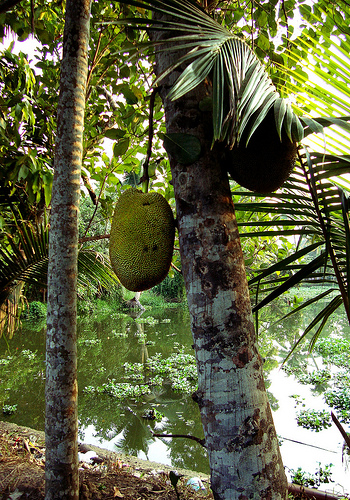jackfruit: (111, 186, 175, 292), (230, 105, 296, 196)
